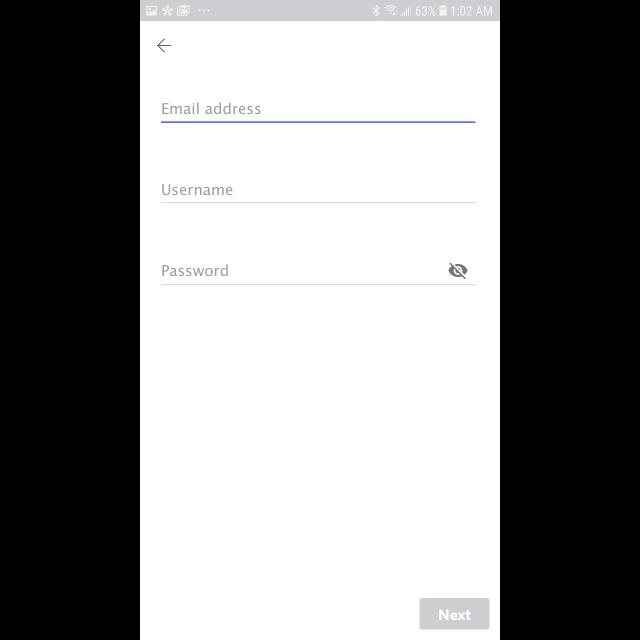icon: (448, 262, 468, 280), (156, 39, 172, 53)
input: (161, 262, 475, 286), (162, 102, 476, 124), (161, 184, 475, 203)
text: (163, 103, 261, 115), (162, 184, 234, 196), (163, 265, 229, 277)
textbutton: (419, 598, 489, 630)
uppertaskbar: (140, 1, 500, 22)
